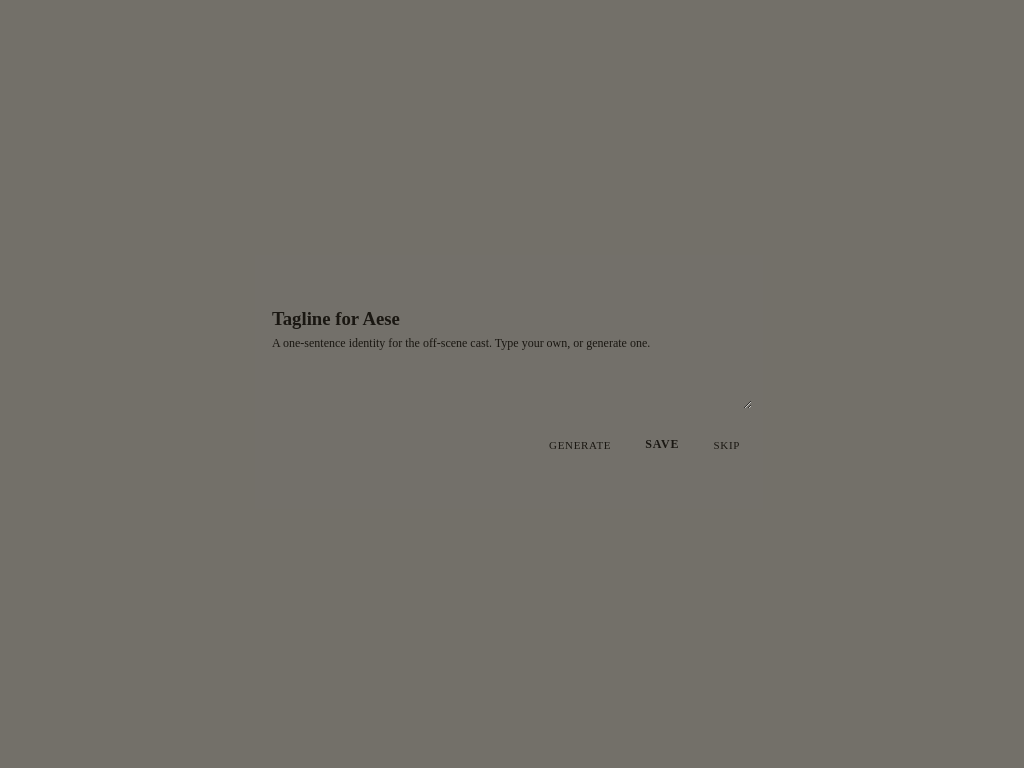
a Generate that cannot reach the provider offers the local-model recovery
Click the button "Generate" at (580, 444), box x1=537 y1=429 x2=623 y2=460
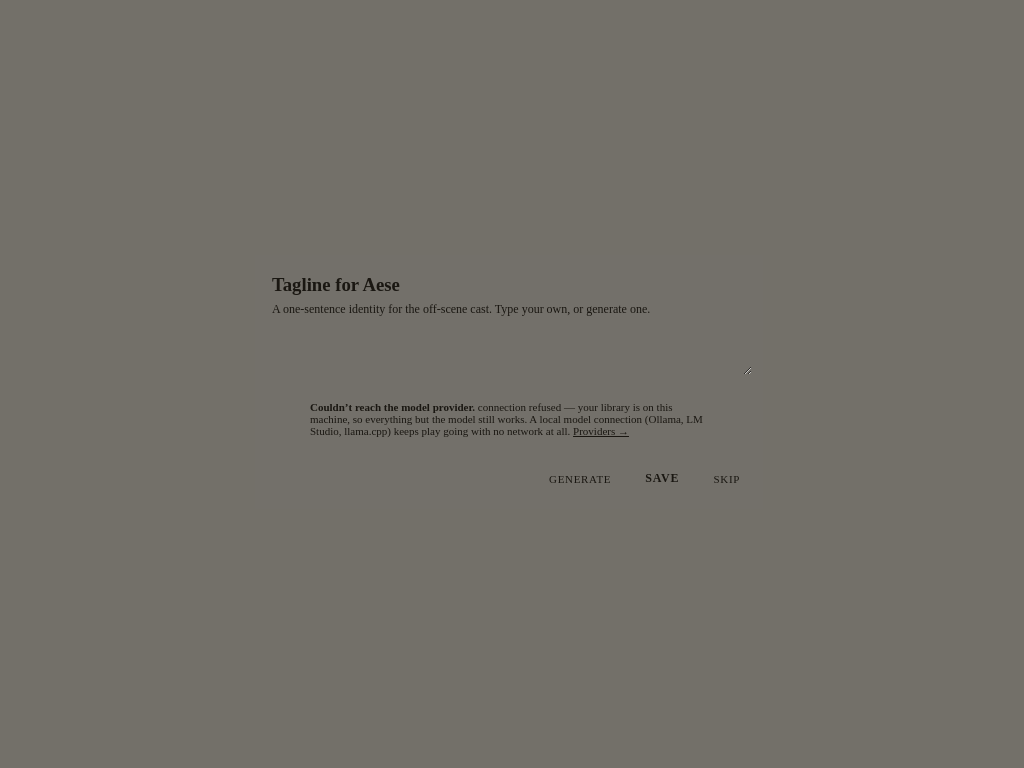
Now the text "Couldn’t reach the model provider." is shown, box x1=310 y1=401 x2=475 y2=413
